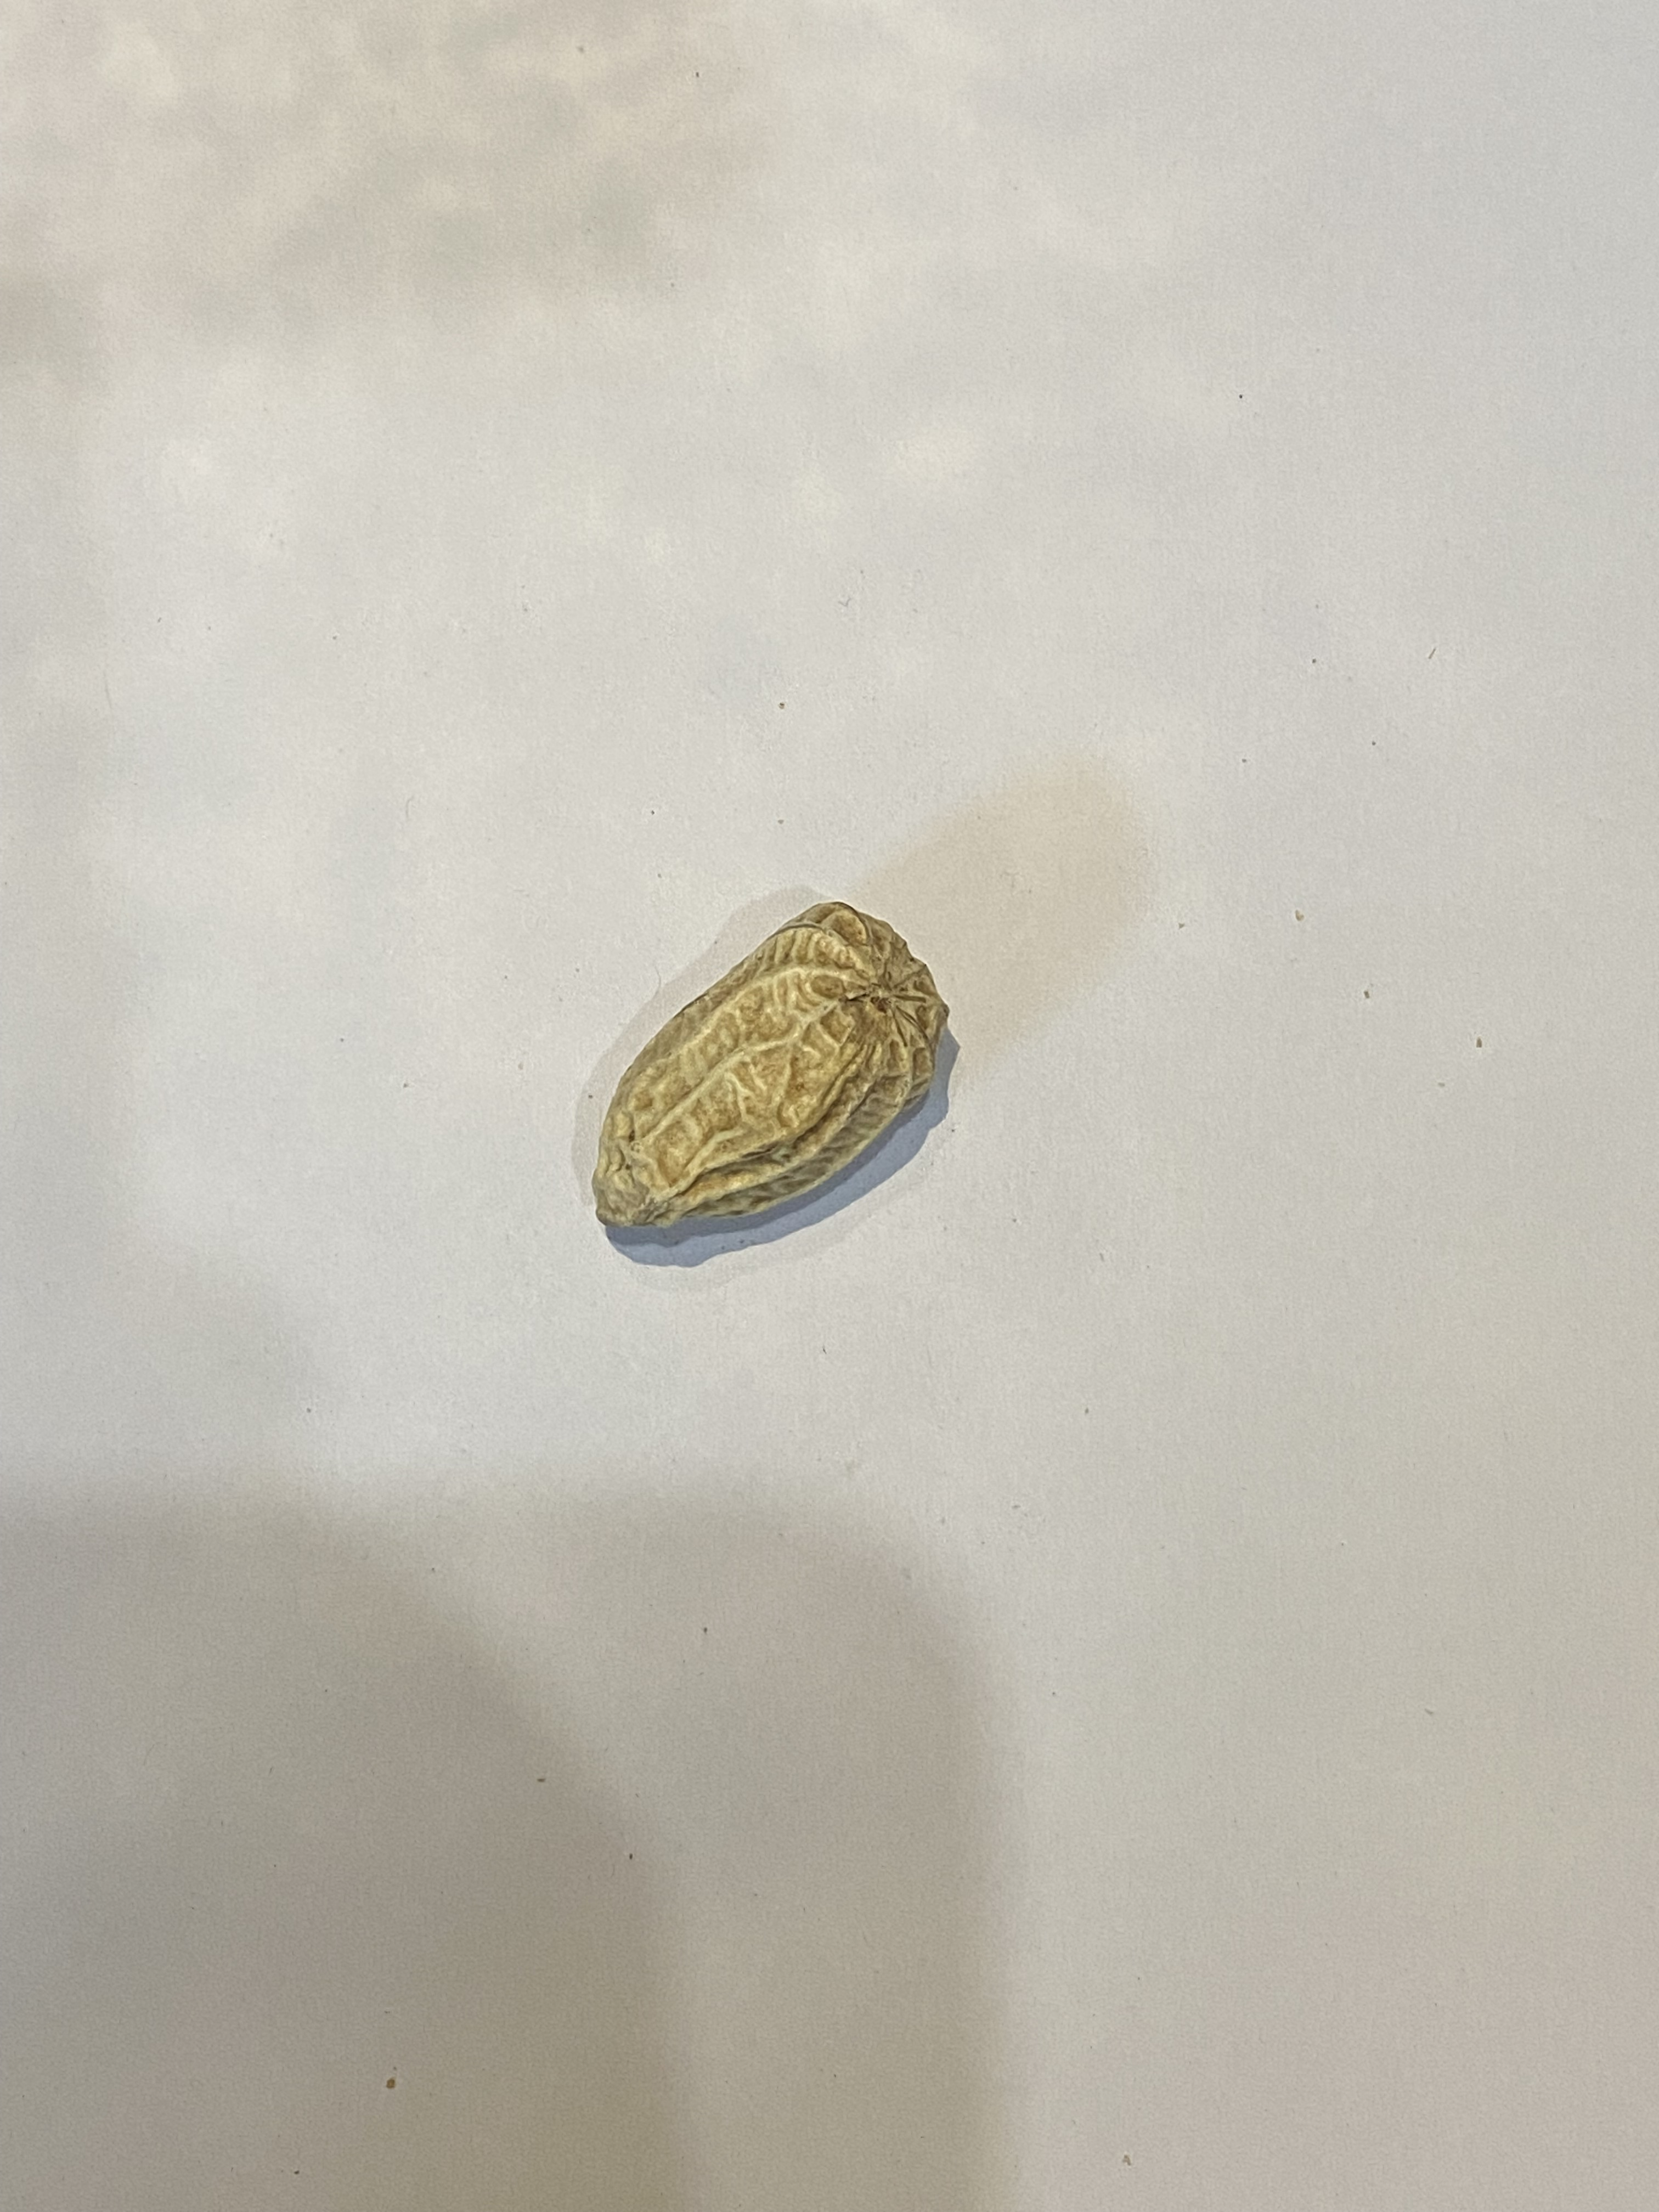kacang1: (544, 880, 948, 1247)
